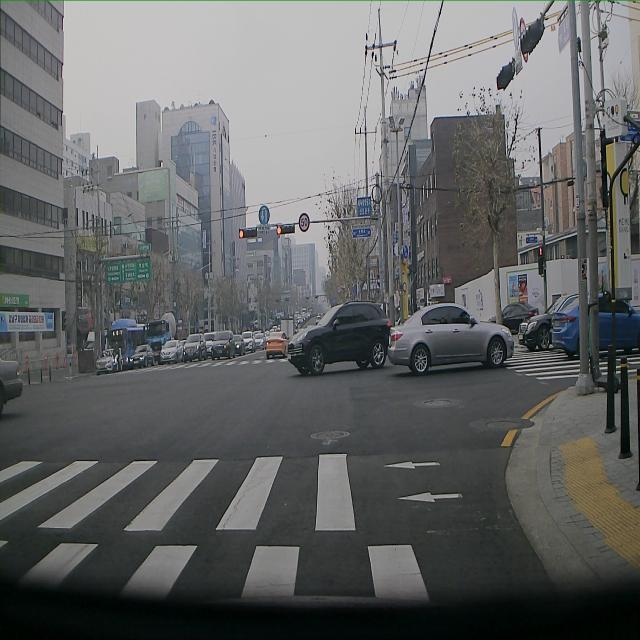crosswalk: (2, 449, 553, 608), (503, 344, 639, 392), (93, 354, 292, 374)
